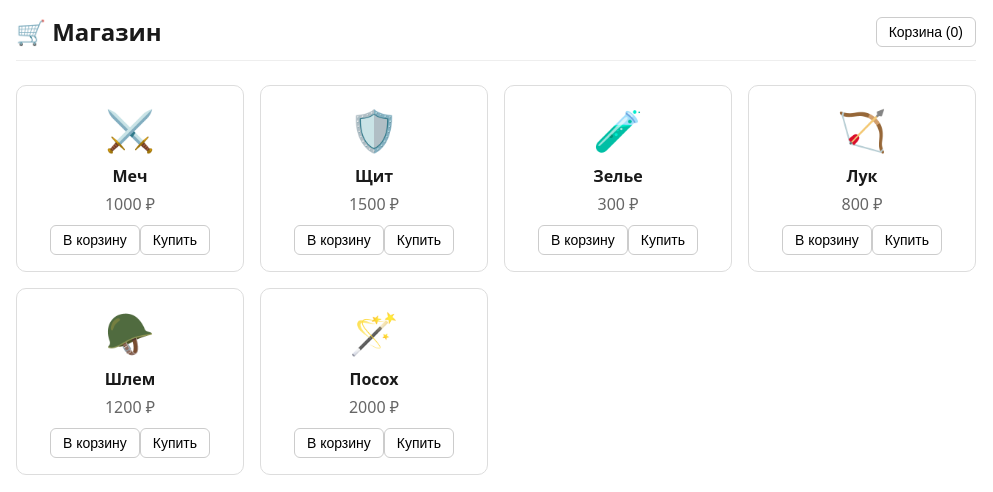
App — витрина и корзина › добавляет товар в корзину и увеличивает счётчик
Click the button "В корзину" below "1000".
click(95, 240)  # box [50, 225, 140, 255]
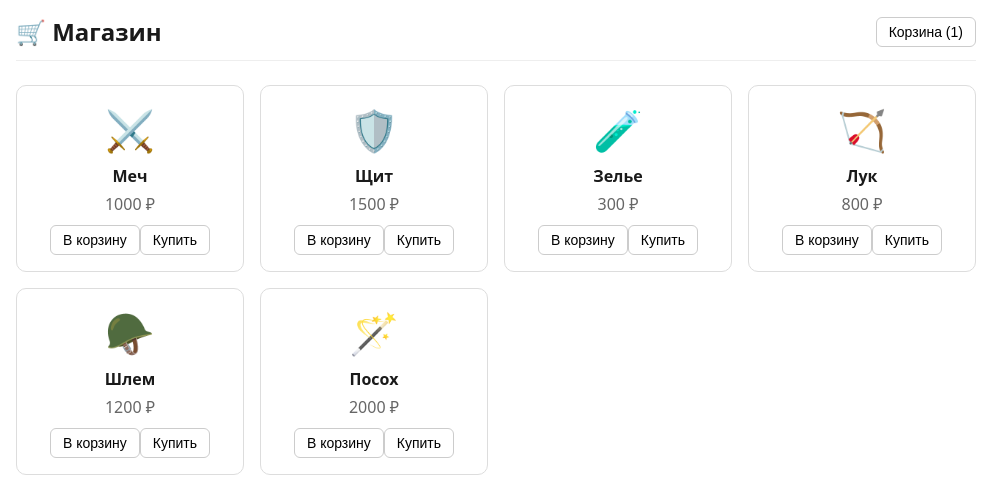
Result: the button "Корзина (1)" is shown at [876, 16, 976, 46]
